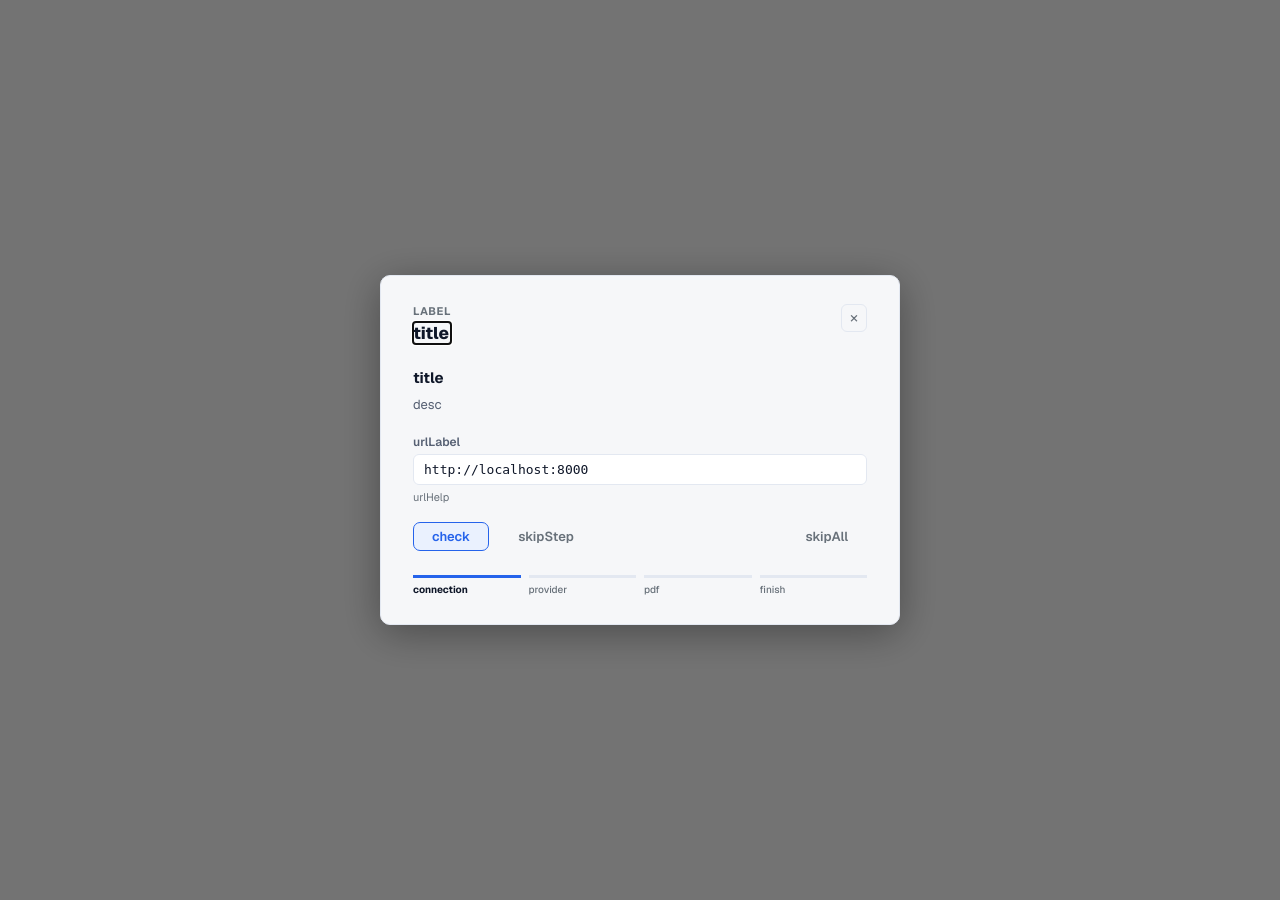
it: FirstRunWizard — step navigation › clicking 'Skip this step' on step 2 advances to step 3
Click the button with test id "wizard-step1-skip-check": (546, 536) top-left (499, 522), bottom-right (593, 551)
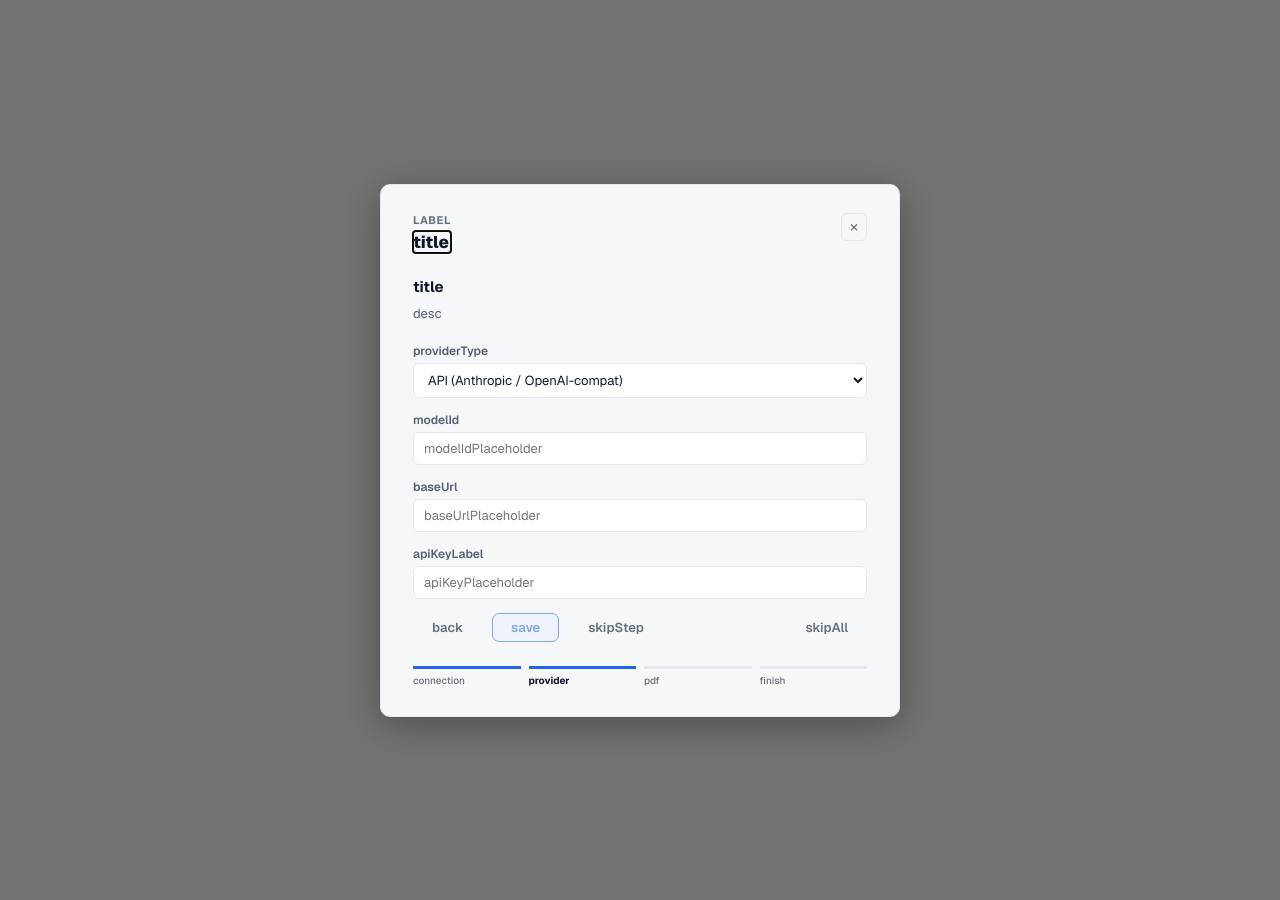
Expected: the dropdown with test id "wizard-step2-type" is shown, top-left (413, 363), bottom-right (867, 398)
Click the button with test id "wizard-step2-skip": (616, 628) top-left (569, 613), bottom-right (663, 642)
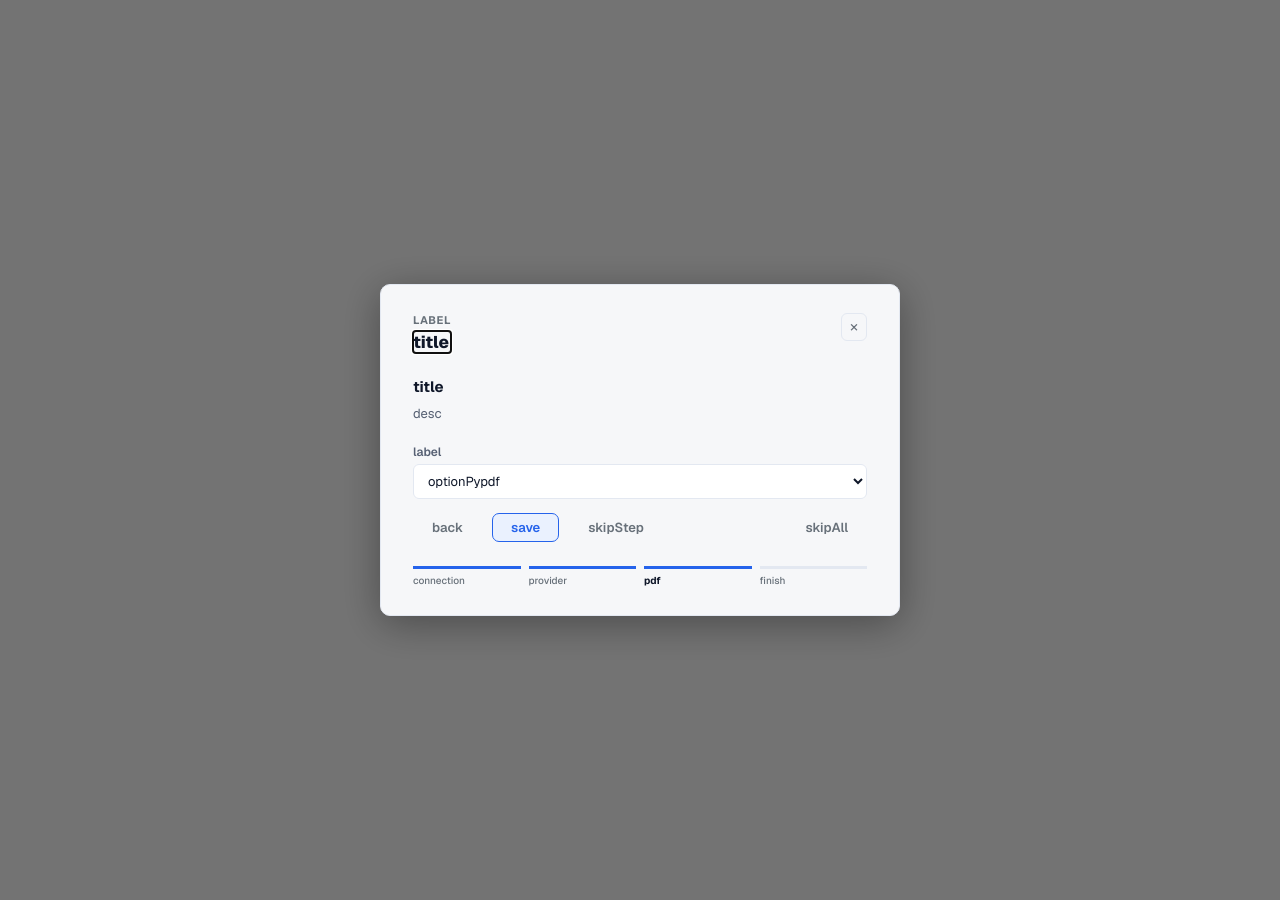
Expected: the dropdown with test id "wizard-step3-extractor" is shown, top-left (413, 464), bottom-right (867, 498)
